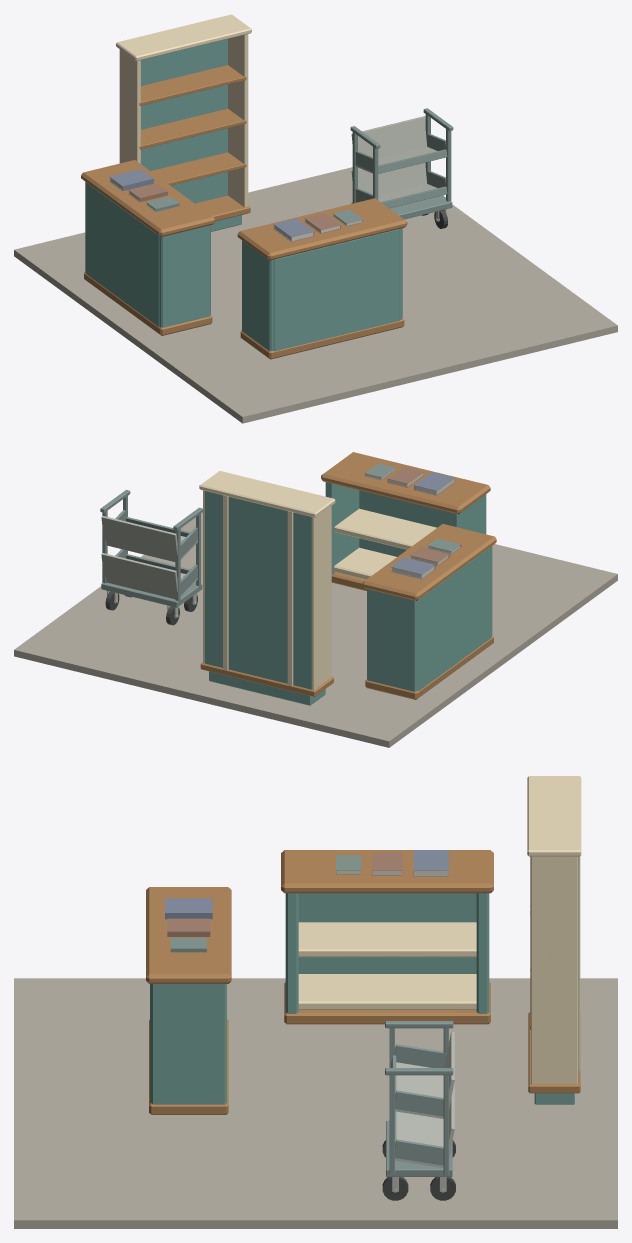
3 views of the same model, one above another, from view 1: azimuth 30°, elevation 25°; view 2: azimuth 150°, elevation 25°; view 3: azimuth 270°, elevation 25° (orthographic). The views are drawn at different scales.
Parts seen in each view (by area): view 1: SCENE_ONLY__SupportFloor, return_counter__dining-service-counter-01, sort_counter__dining-service-counter-01, classified_holding_shelf__Inset_backboard, classified_holding_shelf__Side_wall_R, classified_holding_shelf__Crown_cap, classified_holding_shelf__Side_wall_L, classified_holding_shelf__Fixed_book_shelf_03, classified_holding_shelf__Fixed_book_shelf_02, transfer_cart__Sorting shelf 1 continuous backstop, classified_holding_shelf__Fixed_book_shelf_01, transfer_cart__Sorting shelf 0 continuous backstop (+5 smaller); view 2: SCENE_ONLY__SupportFloor, classified_holding_shelf__Inset_backboard, sort_counter__dining-service-counter-01, return_counter__dining-service-counter-01, classified_holding_shelf__Side_wall_L, classified_holding_shelf__Crown_cap, transfer_cart__Sorting shelf 0 continuous backstop, transfer_cart__Sorting shelf 1 continuous backstop, classified_holding_shelf__Rear_batten_L, classified_holding_shelf__Floor_plinth, classified_holding_shelf__Rear_batten_R, classified_holding_shelf__Lower_book_deck (+3 smaller); view 3: SCENE_ONLY__SupportFloor, sort_counter__dining-service-counter-01, return_counter__dining-service-counter-01, classified_holding_shelf__Side_wall_R, classified_holding_shelf__Crown_cap, transfer_cart__Sorting shelf 0 floor, transfer_cart__Sorting shelf 1 floor, return_books__Reference continuous wrap cover and spine, transfer_cart__Lower rigid caster chassis, transfer_cart__Sorting shelf 0 side stop 0.344, transfer_cart__Sorting shelf 1 side stop 0.344, transfer_cart__Sorting shelf 1 side stop -0.344 (+5 smaller).
Part boxes in pixels (left/top/right/bottom): SCENE_ONLY__SupportFloor: left=14, top=167, right=617, bottom=423; return_counter__dining-service-counter-01: left=237, top=198, right=407, bottom=359; sort_counter__dining-service-counter-01: left=81, top=160, right=215, bottom=335; classified_holding_shelf__Inset_backboard: left=141, top=39, right=227, bottom=203; classified_holding_shelf__Side_wall_R: left=228, top=34, right=248, bottom=207; classified_holding_shelf__Crown_cap: left=116, top=14, right=251, bottom=61; classified_holding_shelf__Side_wall_L: left=119, top=49, right=140, bottom=163; classified_holding_shelf__Fixed_book_shelf_03: left=139, top=65, right=246, bottom=105; classified_holding_shelf__Fixed_book_shelf_02: left=139, top=108, right=246, bottom=149; transfer_cart__Sorting shelf 1 continuous backstop: left=351, top=116, right=427, bottom=158; classified_holding_shelf__Fixed_book_shelf_01: left=151, top=152, right=246, bottom=185; transfer_cart__Sorting shelf 0 continuous backstop: left=351, top=162, right=427, bottom=195; SCENE_ONLY__SupportFloor: left=14, top=512, right=617, bottom=747; classified_holding_shelf__Inset_backboard: left=205, top=491, right=311, bottom=689; sort_counter__dining-service-counter-01: left=362, top=524, right=496, bottom=699; return_counter__dining-service-counter-01: left=321, top=452, right=490, bottom=590; classified_holding_shelf__Side_wall_L: left=312, top=506, right=331, bottom=689; classified_holding_shelf__Crown_cap: left=199, top=471, right=335, bottom=517; transfer_cart__Sorting shelf 0 continuous backstop: left=101, top=553, right=177, bottom=598; transfer_cart__Sorting shelf 1 continuous backstop: left=101, top=516, right=177, bottom=561; classified_holding_shelf__Rear_batten_L: left=287, top=511, right=293, bottom=686; classified_holding_shelf__Floor_plinth: left=209, top=671, right=325, bottom=705; classified_holding_shelf__Rear_batten_R: left=223, top=495, right=228, bottom=670; classified_holding_shelf__Lower_book_deck: left=200, top=662, right=333, bottom=696; SCENE_ONLY__SupportFloor: left=14, top=978, right=617, bottom=1228; sort_counter__dining-service-counter-01: left=281, top=850, right=493, bottom=1024; return_counter__dining-service-counter-01: left=146, top=887, right=231, bottom=1114; classified_holding_shelf__Side_wall_R: left=531, top=856, right=577, bottom=1084; classified_holding_shelf__Crown_cap: left=527, top=776, right=581, bottom=856; transfer_cart__Sorting shelf 0 floor: left=395, top=1111, right=443, bottom=1167; transfer_cart__Sorting shelf 1 floor: left=395, top=1062, right=443, bottom=1118; return_books__Reference continuous wrap cover and spine: left=165, top=898, right=212, bottom=919; transfer_cart__Lower rigid caster chassis: left=386, top=1120, right=452, bottom=1176; transfer_cart__Sorting shelf 0 side stop 0.344: left=395, top=1139, right=443, bottom=1165; transfer_cart__Sorting shelf 1 side stop 0.344: left=395, top=1090, right=443, bottom=1116; transfer_cart__Sorting shelf 1 side stop -0.344: left=394, top=1044, right=446, bottom=1067.
Size of the model in its own units: 3.6 by 1.86 by 3.8.
